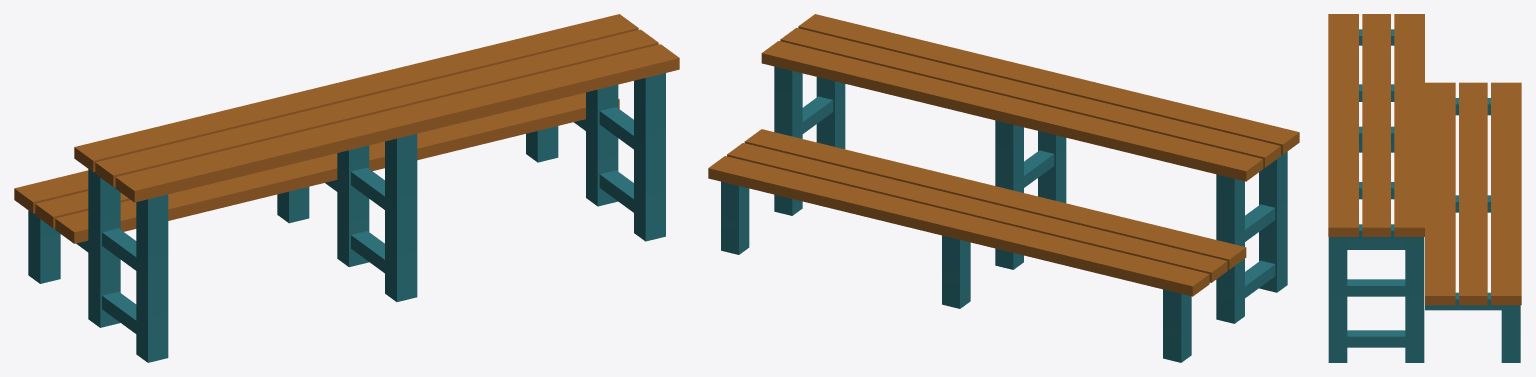
File: Bench_1_E_1.fbx
3 renders of one model, left to right at view 1: azimuth 30°, elevation 25°; view 2: azimuth 150°, elevation 25°; view 3: azimuth 270°, elevation 25°, orthographic. The views are drawn at different scales.
Parts seen in each view (by area): view 1: Bench_1_E_1; view 2: Bench_1_E_1; view 3: Bench_1_E_1.
Boxes of the visible parts, x1,y1,x2,y2 form: Bench_1_E_1: [14, 14, 679, 362]; Bench_1_E_1: [708, 14, 1299, 362]; Bench_1_E_1: [1328, 14, 1521, 362].
Size of the model in its own units: 213 by 65.4 by 81.37.
